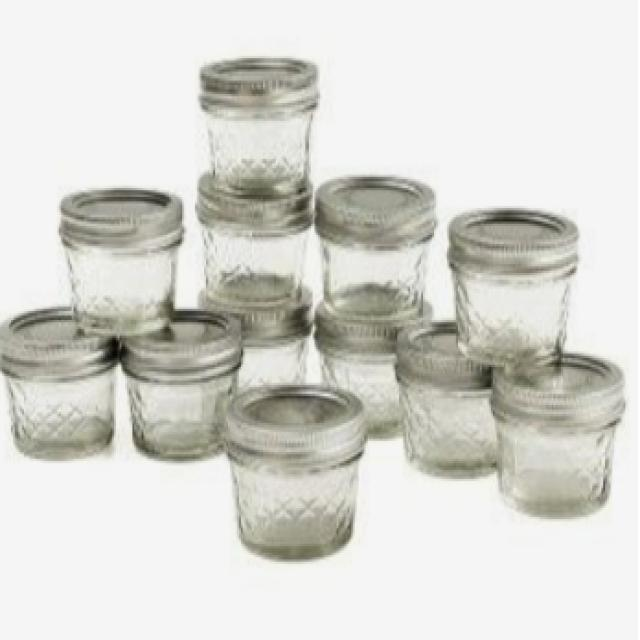ToplesKaca: (0, 52, 627, 560)
